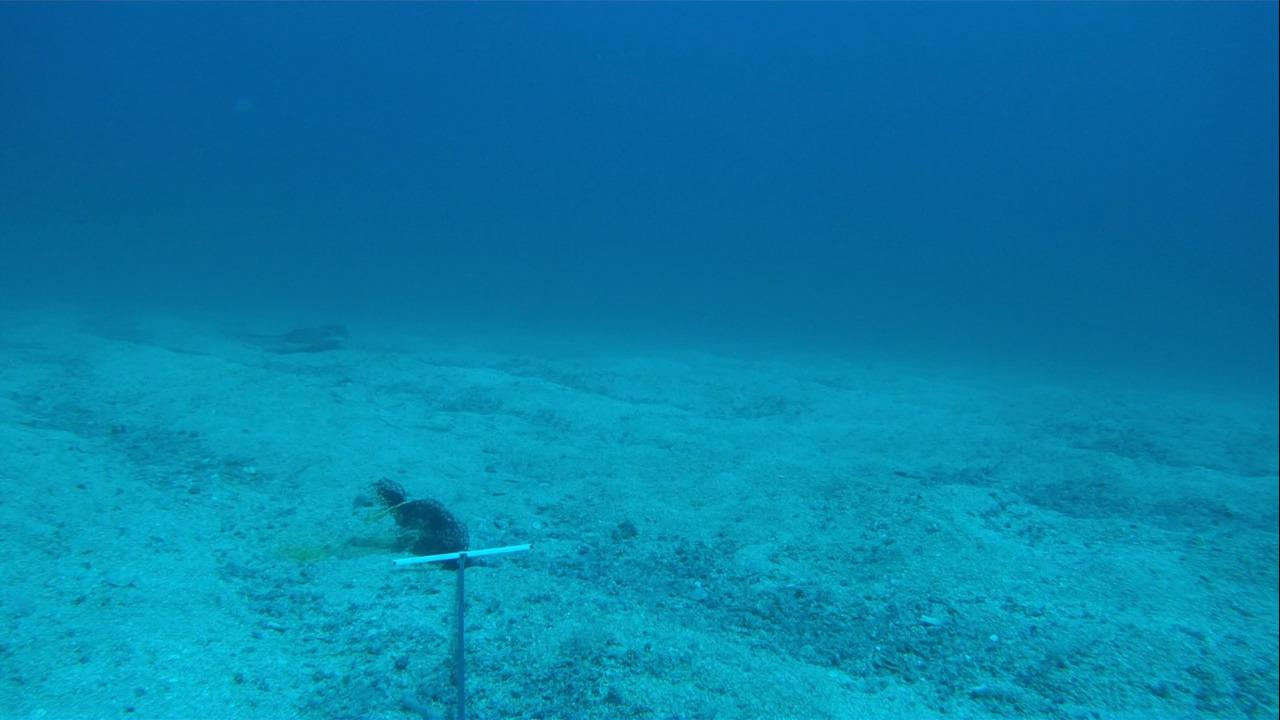myliobatis: (199, 312, 357, 361)
